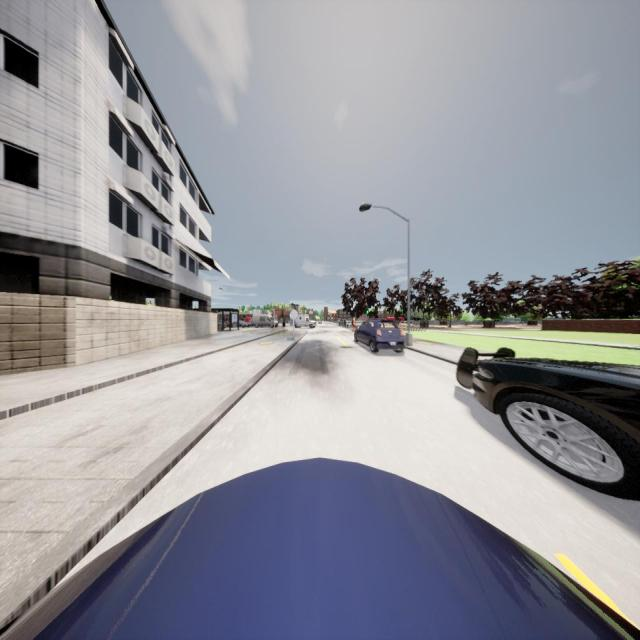Pedestrian: (353, 316, 356, 332)
Traffic_Signs: (289, 309, 298, 320)
Vehicle: (1, 456, 640, 640), (455, 344, 640, 500), (354, 320, 405, 353), (252, 309, 279, 328), (294, 314, 316, 329), (239, 320, 252, 328)
traffic_light: (365, 307, 369, 314)
